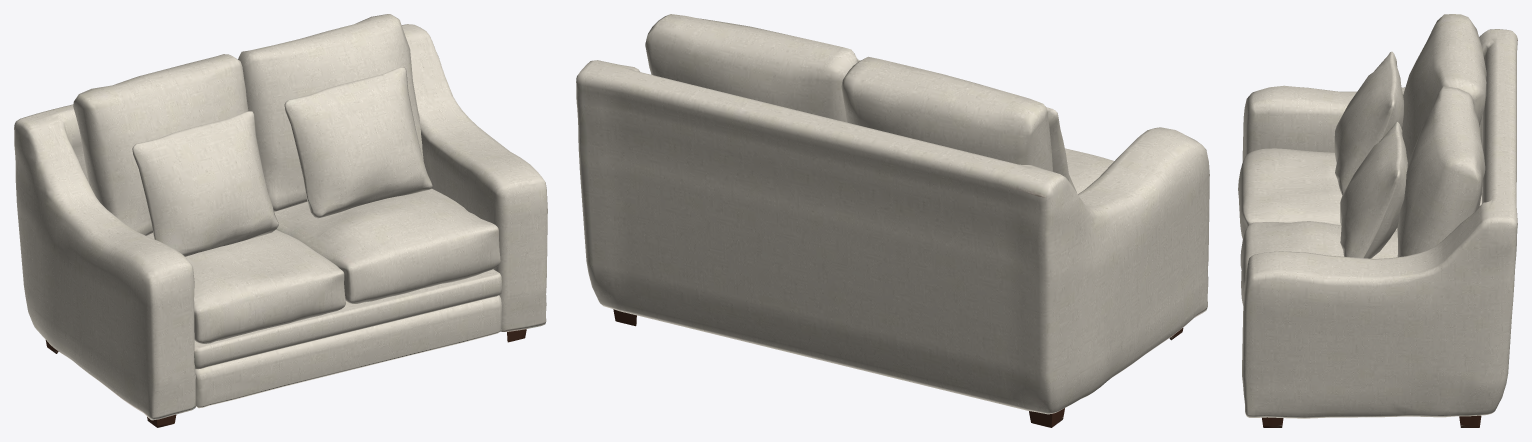
Rendered from loveseat_abo_B07HZ57QH1.glb.
The picture shows the model from 3 angles, left to right: view 1: azimuth 30°, elevation 25°; view 2: azimuth 150°, elevation 25°; view 3: azimuth 270°, elevation 25°; orthographic projection. The views are drawn at different scales.
Parts seen in each view (by area): view 1: RootNode; view 2: RootNode; view 3: RootNode.
Part boxes in pixels (left/top/right/bottom): RootNode: left=14, top=14, right=547, bottom=427; RootNode: left=576, top=14, right=1209, bottom=427; RootNode: left=1238, top=14, right=1517, bottom=427.
Bounding box in the file's own units: 1.74 × 1.05 × 1.04.
Materials: 1 (1 with a texture image).
